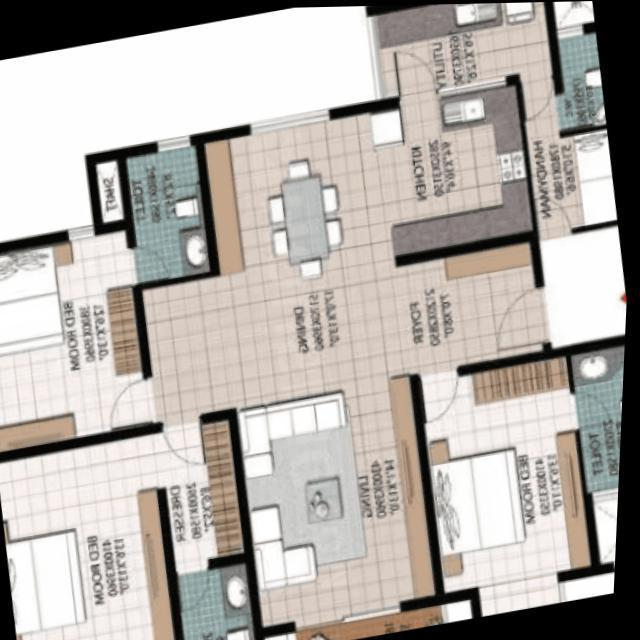Bedroom: (413, 345, 608, 605)
Bedroom with Toilet: (0, 136, 220, 455), (0, 413, 265, 640)
Dining: (266, 150, 354, 284)
Enterance-Foyer: (400, 235, 556, 382)
Kitchen: (380, 86, 535, 257)
Living: (239, 375, 440, 627)
Toilet: (130, 144, 215, 282), (578, 342, 628, 496), (546, 19, 609, 135), (182, 559, 262, 640)
Utility: (367, 2, 554, 101)
